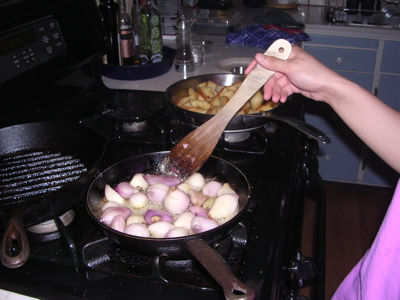onion: (210, 192, 240, 220), (164, 187, 190, 214), (189, 214, 218, 233)
